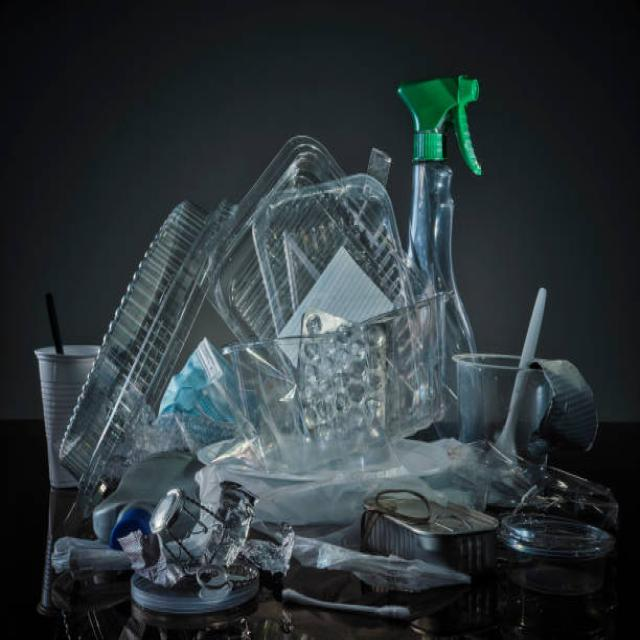metal: (350, 478, 496, 590), (150, 486, 234, 590), (536, 359, 604, 453)
plastic: (33, 84, 534, 476), (497, 461, 637, 604)
